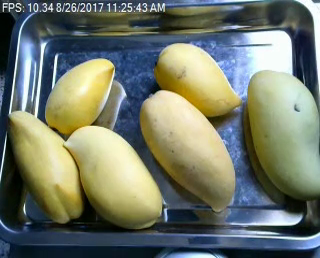Mango: (140, 89, 237, 210), (62, 126, 166, 230), (247, 70, 320, 198), (8, 108, 84, 224), (155, 43, 243, 117), (43, 56, 116, 134)
